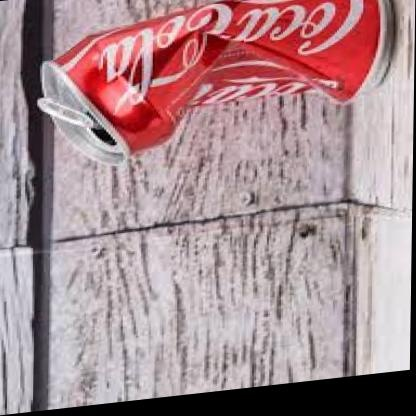trash: (0, 0, 413, 413), (39, 0, 393, 163), (35, 32, 132, 165)
